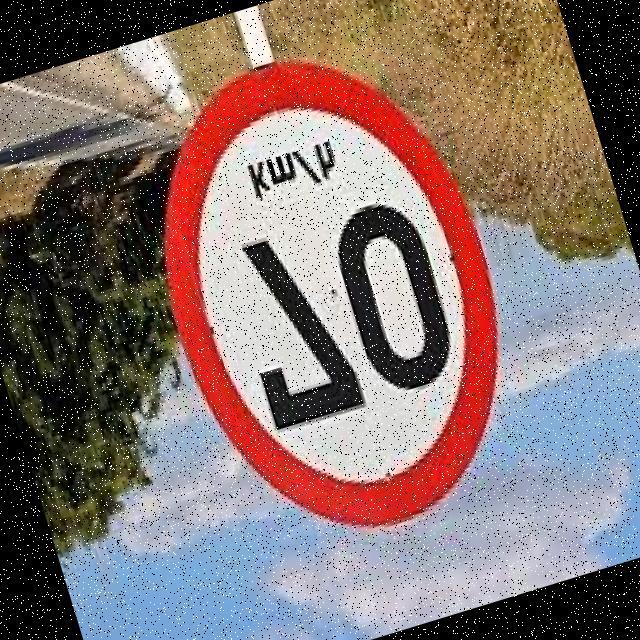speed_limit_70: (103, 14, 556, 573)
